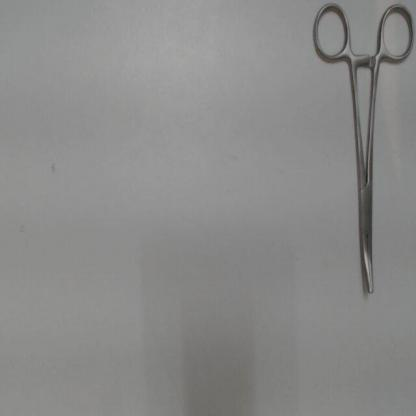Crile Artery Forceps: (309, 2, 415, 307)
